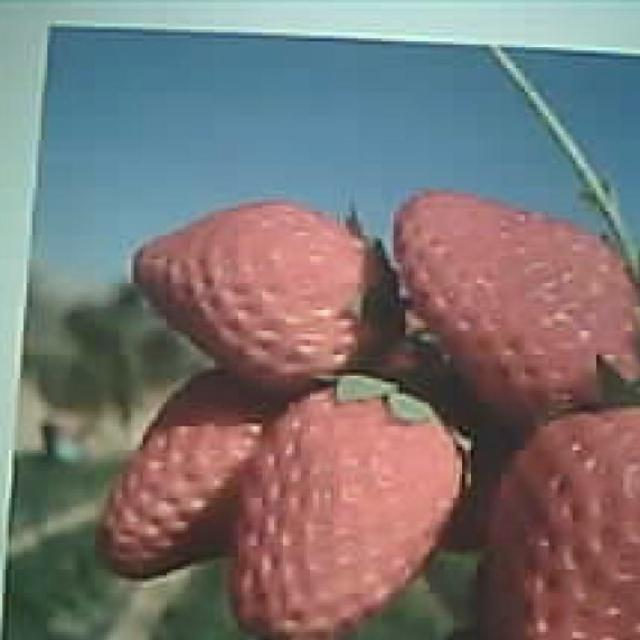Healthy Fruit: (235, 382, 465, 639), (404, 190, 640, 404), (133, 205, 397, 384), (493, 407, 640, 640), (100, 380, 252, 575)
